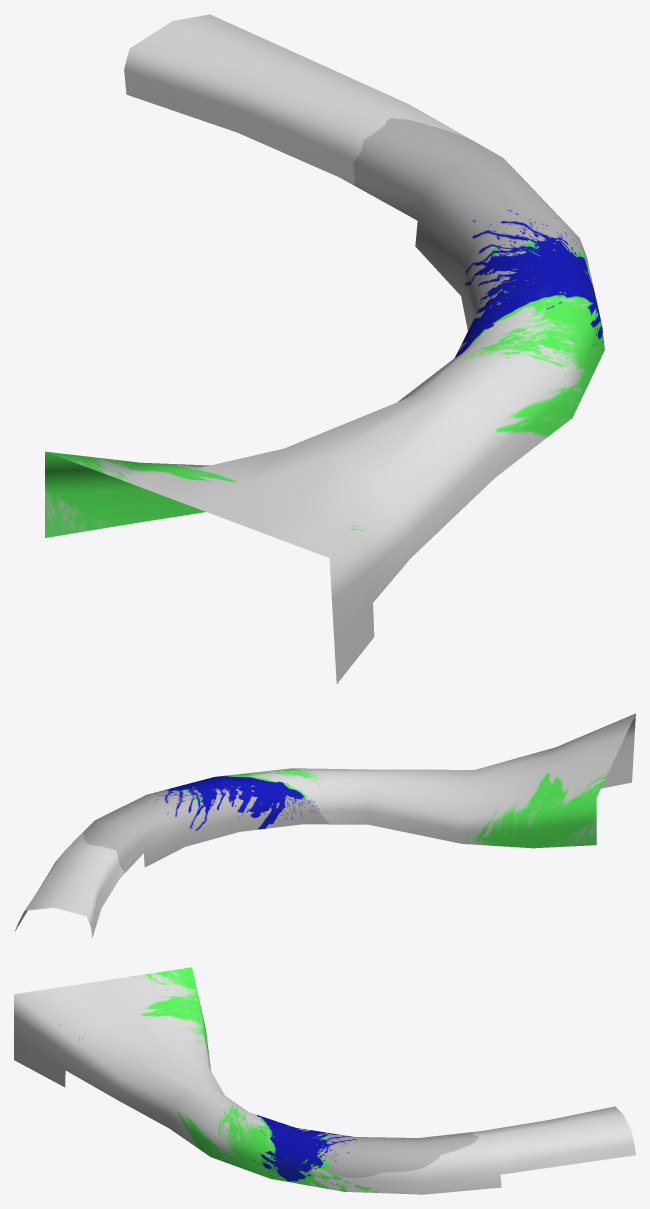
File: Lvl1ExitTop.fbx
The picture shows the model from 3 angles, top to bottom: view 1: azimuth 30°, elevation 25°; view 2: azimuth 150°, elevation 25°; view 3: azimuth 270°, elevation 25°; orthographic projection. The views are drawn at different scales.
Parts seen in each view (by area): view 1: ExitTopCollider; view 2: ExitTopCollider; view 3: ExitTopCollider.
Part boxes in pixels (x1=…): ExitTopCollider: x1=45, y1=14, x2=604, y2=683; ExitTopCollider: x1=14, y1=713, x2=635, y2=937; ExitTopCollider: x1=14, y1=967, x2=635, y2=1194.
Size of the model in its own units: 9.15 by 1.74 by 13.83.
